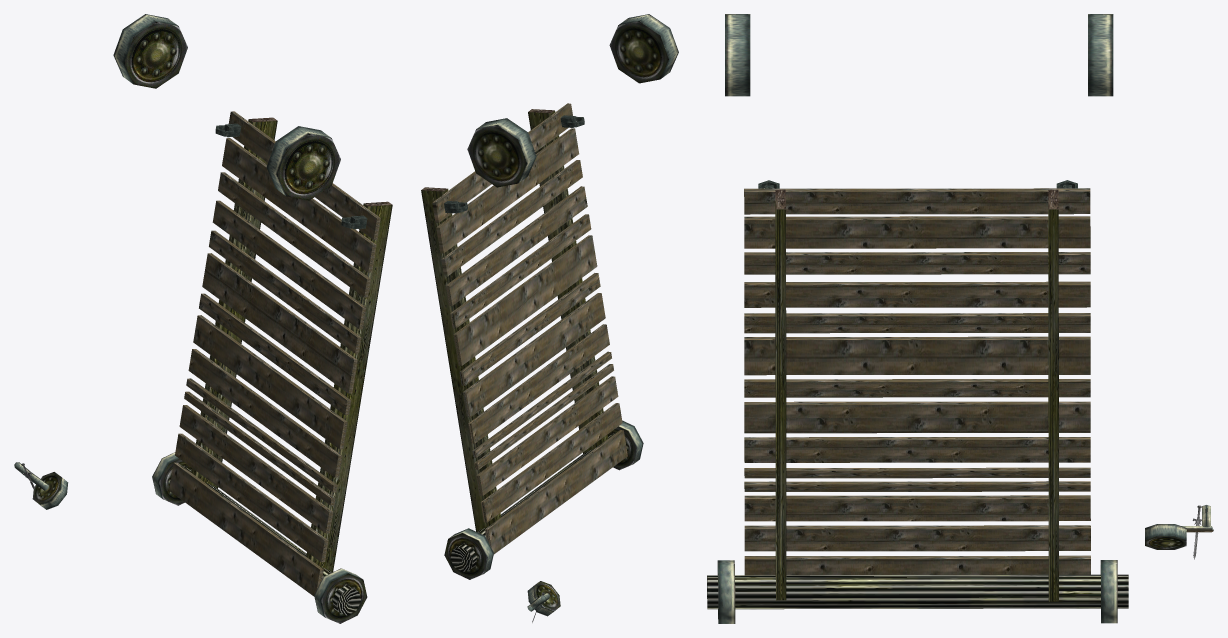
File: BRIDGE_FALLING.fbx
The picture shows the model from 3 angles, left to right: view 1: azimuth 30°, elevation 25°; view 2: azimuth 150°, elevation 25°; view 3: azimuth 270°, elevation 25°; orthographic projection. The views are drawn at different scales.
Visible parts, largest first — view 1: BRIDGE_FALLING; view 2: BRIDGE_FALLING; view 3: BRIDGE_FALLING.
Part boxes in pixels (left/top/right/bottom): BRIDGE_FALLING: left=14, top=14, right=392, bottom=623; BRIDGE_FALLING: left=421, top=14, right=678, bottom=622; BRIDGE_FALLING: left=707, top=14, right=1213, bottom=623.
Bounding box in the file's own units: 67566 × 162720 × 127376.
8 materials, 8 textured.
